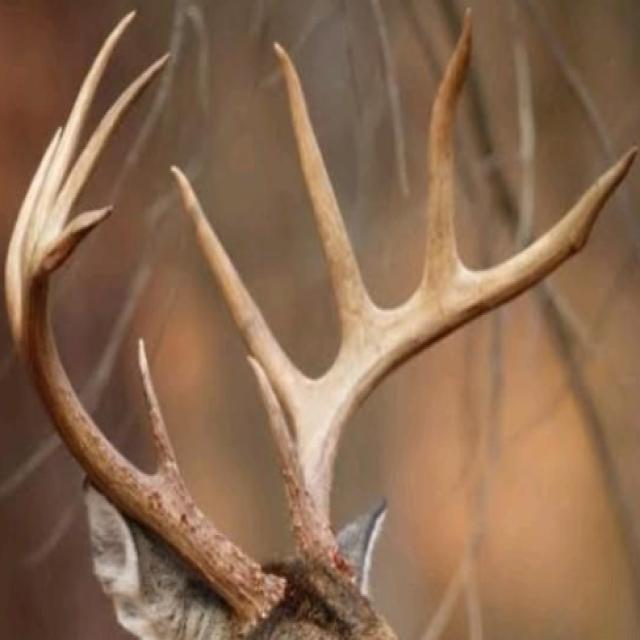L-F: (283, 144, 640, 579)
L-G1: (245, 353, 294, 474)
L-G2: (168, 162, 317, 442)
L-G3: (268, 38, 382, 350)
L-G4: (419, 2, 475, 286)
R-F: (22, 203, 288, 640)
R-G1: (136, 333, 190, 495)
R-G3: (20, 3, 138, 283)
R-G4: (33, 50, 172, 270)
